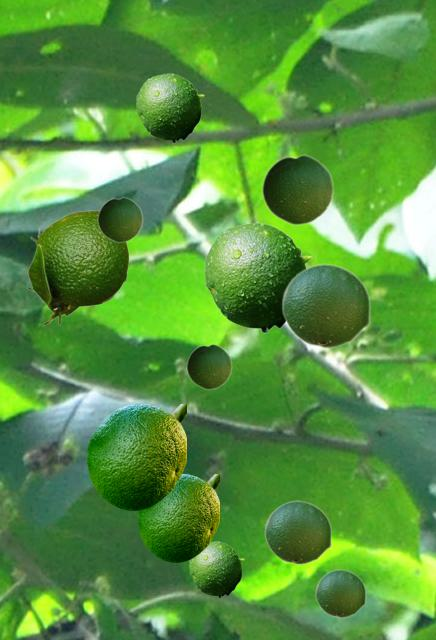dalandan: (204, 222, 311, 332), (26, 210, 128, 325), (87, 404, 185, 509), (281, 263, 370, 348), (138, 474, 218, 561), (261, 153, 333, 225), (136, 73, 203, 142), (264, 500, 331, 564), (189, 541, 243, 597), (315, 569, 365, 617), (186, 343, 231, 389), (97, 196, 142, 242)
